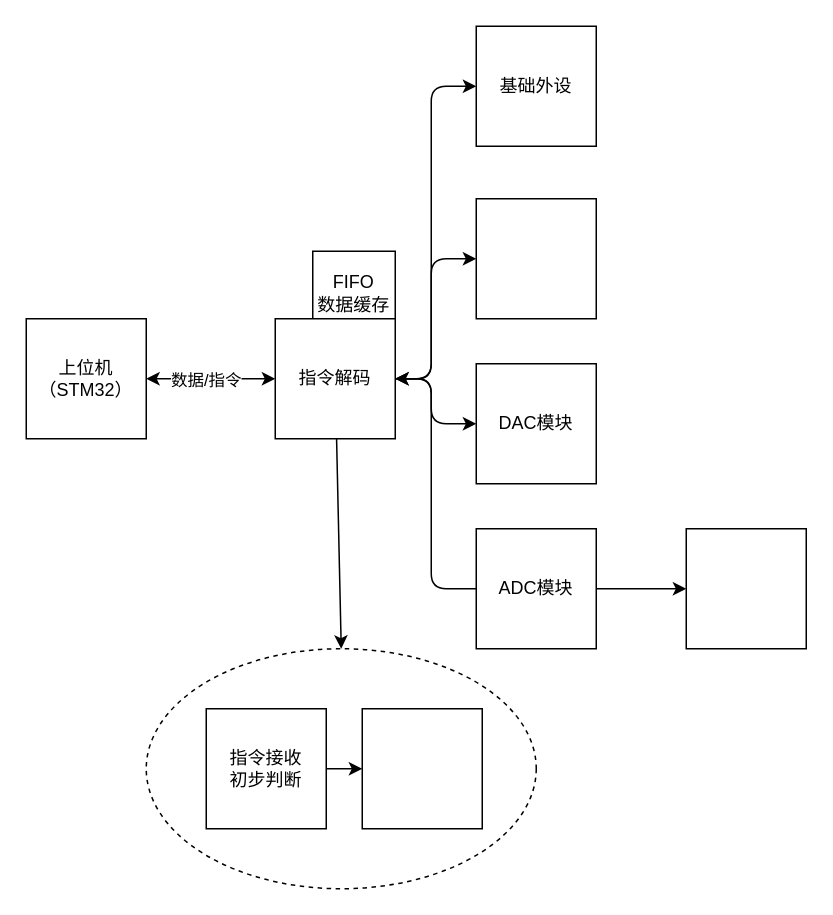
Image size: 833x915. Some labels were removed from this diagram. The box of each missing label's shape, as (x1, y1, x2, y2) in pixels:
FIR滤波器（可选）: (685, 527, 806, 649)
UART模块: (475, 197, 596, 319)
数据流向 模块控制: (361, 707, 482, 829)
